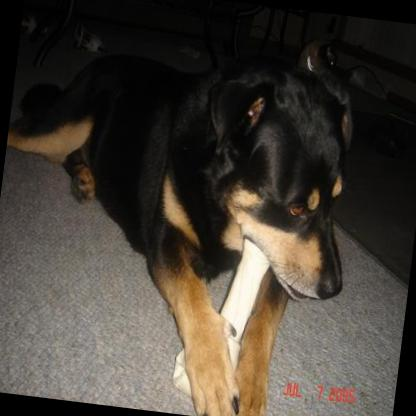Rottweiler: (0, 0, 372, 416)
